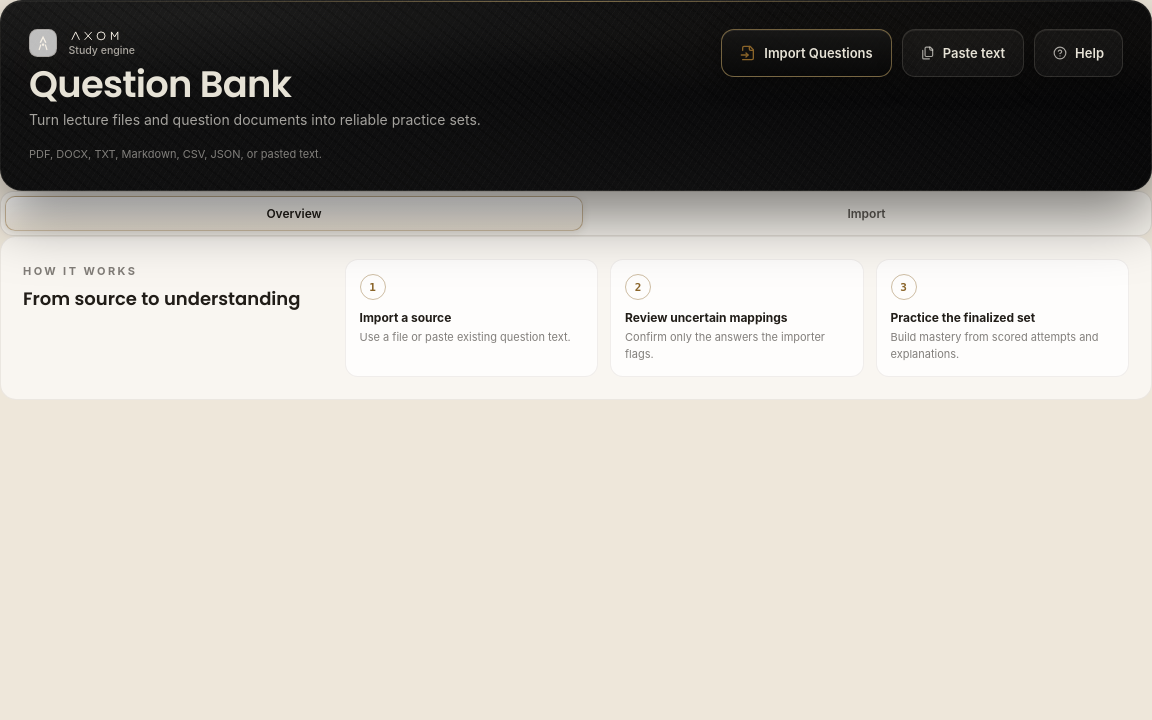
QuestionWorkspacePage first use › routes Paste text into the real paste mode on the unified Import tab
Click the button "Paste text" at {"x": 963, "y": 53}, box [902,29,1024,77]
(page scrolled)
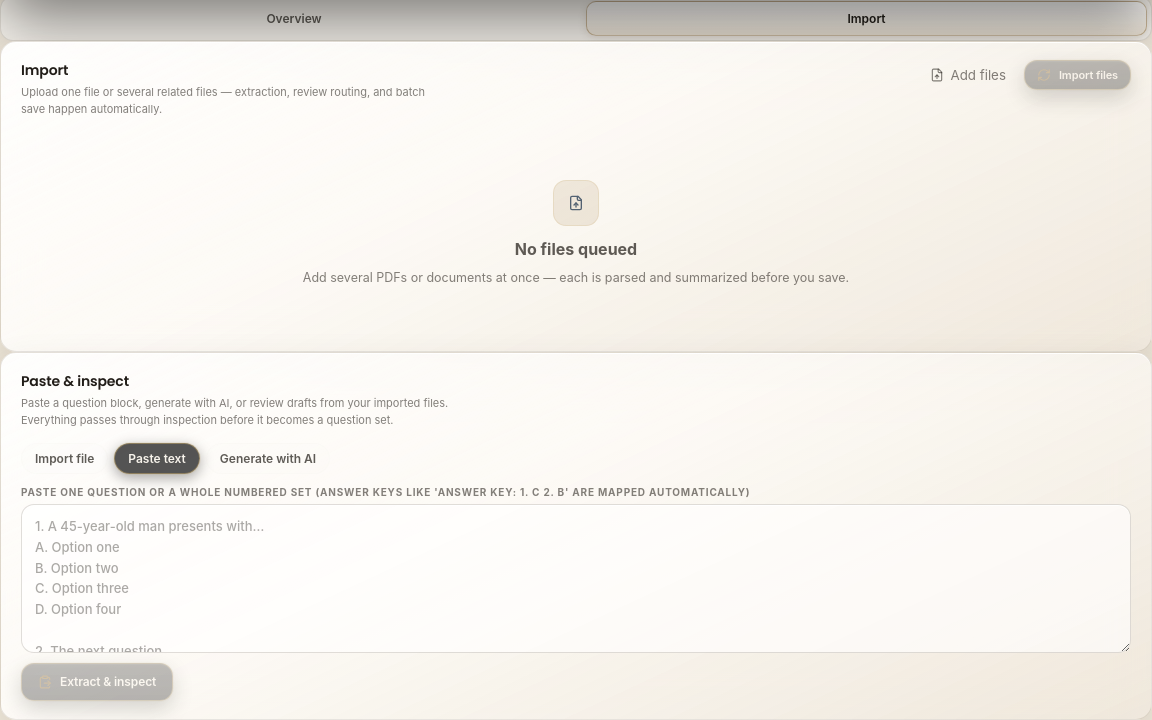
Now the heading "Paste & inspect" is shown, box [21,371,129,391]
Now the text box labelled "Paste one question or a whole numbered set" is shown, box [21,504,1131,653]
Now the button "Extract & inspect" is disabled, box [21,663,173,701]
